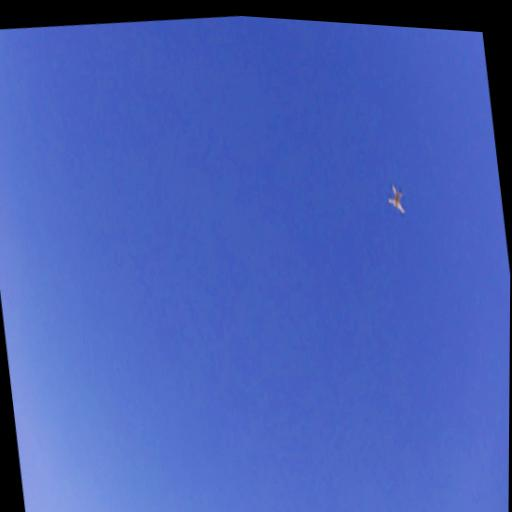drones: (383, 172, 410, 224)
